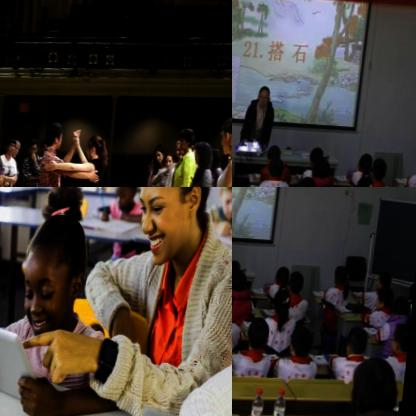head: (12, 199, 100, 340), (129, 187, 221, 271), (353, 355, 405, 416), (290, 320, 318, 359), (389, 320, 413, 362), (247, 314, 273, 350), (109, 187, 144, 211), (83, 133, 109, 165), (347, 325, 372, 358), (391, 293, 414, 323), (274, 286, 295, 318), (193, 142, 214, 170), (369, 154, 390, 182), (217, 187, 232, 225), (286, 268, 307, 295), (333, 264, 355, 289), (45, 121, 65, 148), (313, 158, 334, 183), (377, 287, 397, 313), (357, 148, 376, 174), (274, 261, 293, 287), (374, 266, 393, 292), (219, 119, 232, 154), (232, 271, 250, 296), (268, 156, 286, 180), (256, 84, 273, 106), (178, 127, 194, 150), (311, 145, 328, 166), (267, 141, 283, 163), (356, 172, 378, 187), (26, 137, 41, 158), (10, 136, 23, 158), (154, 144, 166, 166), (38, 136, 52, 154), (232, 258, 244, 279), (295, 177, 318, 187), (164, 152, 175, 170), (5, 138, 15, 155)
